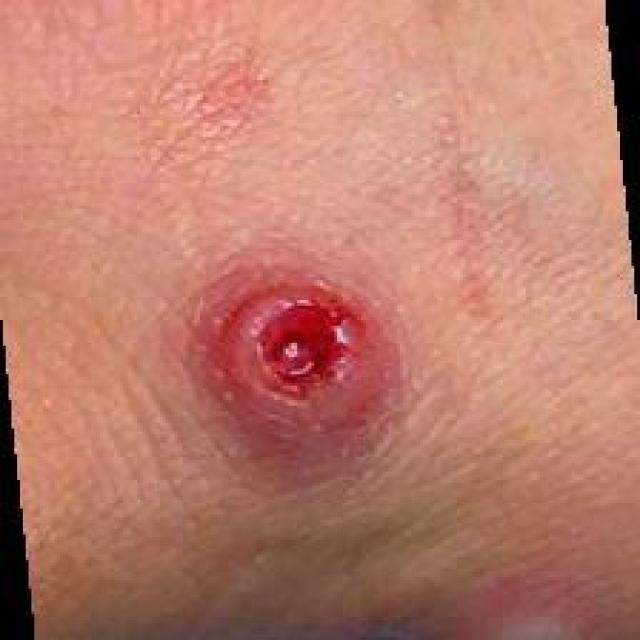monkeypox: (45, 24, 572, 587)
